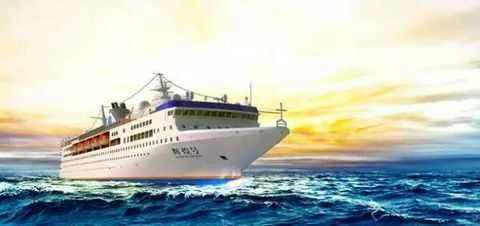youlun: (58, 70, 292, 179)
